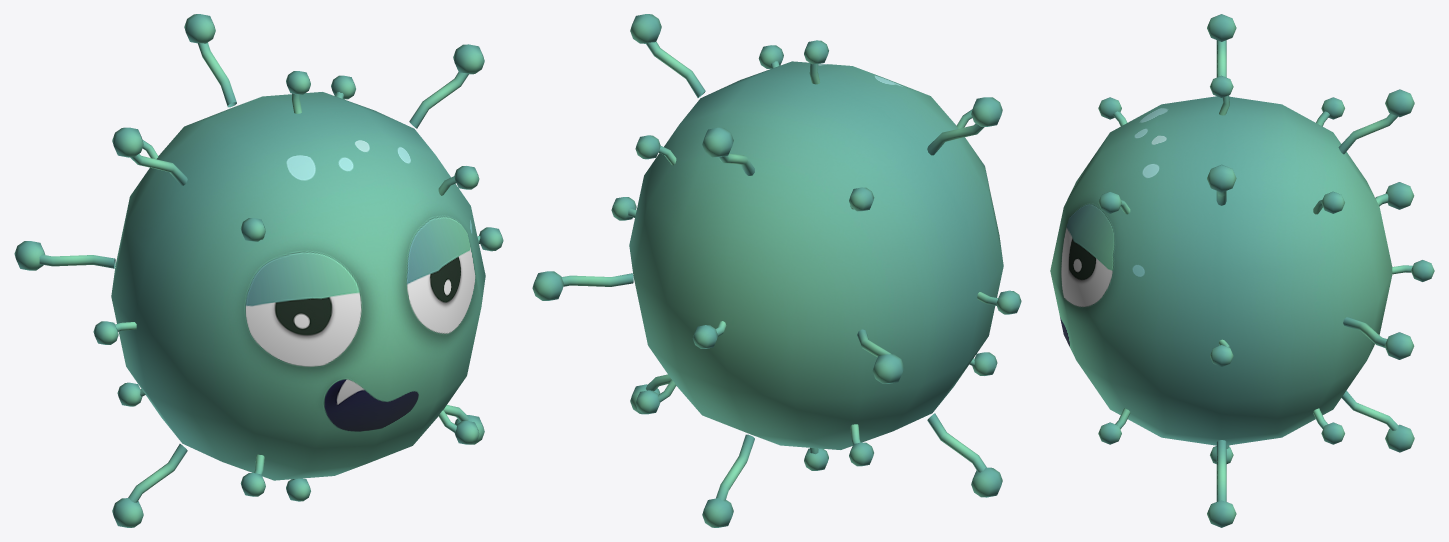
File: bacteria2.fbx
3 renders of one model, left to right at view 1: azimuth 30°, elevation 25°; view 2: azimuth 150°, elevation 25°; view 3: azimuth 270°, elevation 25°, orthographic. The views are drawn at different scales.
Visible parts, largest first — view 1: Bacteria; view 2: Bacteria; view 3: Bacteria.
Boxes of the visible parts, bbox=[...] form: Bacteria: bbox=[14, 14, 503, 527]; Bacteria: bbox=[532, 14, 1021, 527]; Bacteria: bbox=[1050, 14, 1434, 527].
Bounding box in the file's own units: 6.67 × 6.73 × 6.02.
